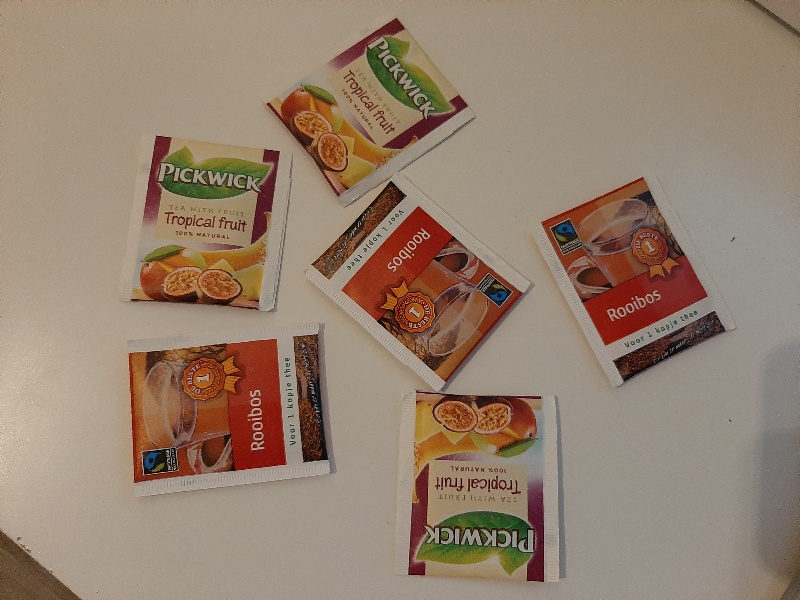rooibos: (305, 170, 528, 390), (532, 171, 735, 392), (121, 318, 337, 501)
tropisch: (264, 11, 473, 205), (390, 385, 570, 583), (114, 131, 302, 314)
